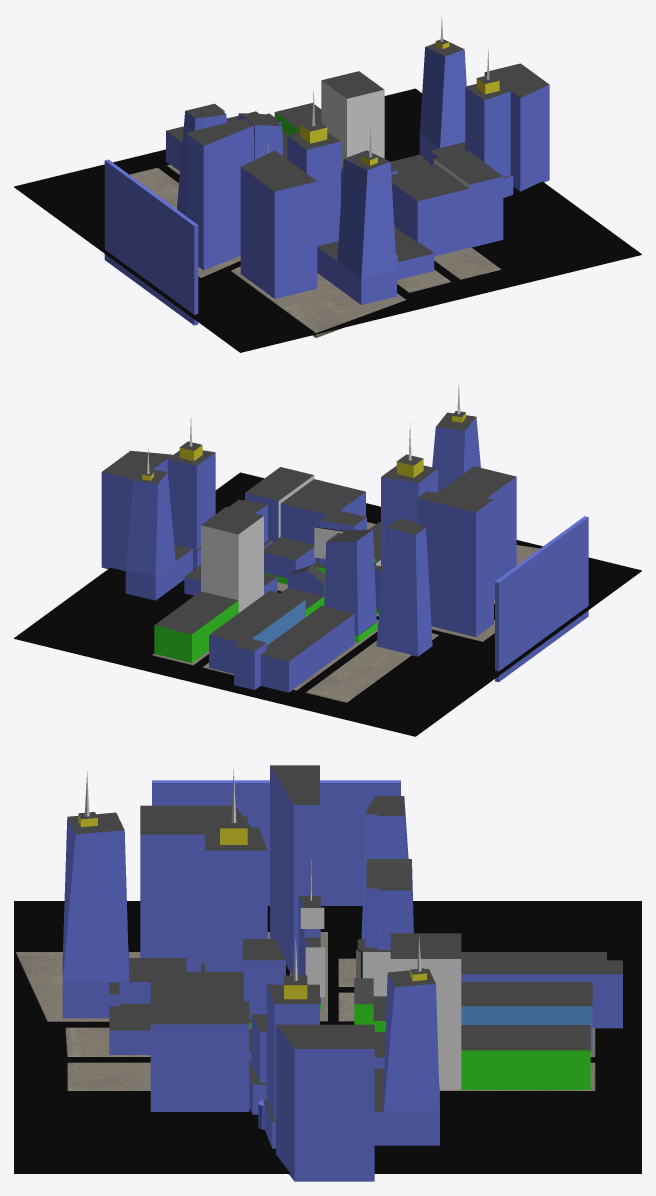
Rendered from city-map-rc4.glb.
The picture shows the model from 3 angles, top to bottom: view 1: azimuth 30°, elevation 25°; view 2: azimuth 150°, elevation 25°; view 3: azimuth 270°, elevation 25°; orthographic projection. The views are drawn at different scales.
Parts seen in each view (by area): view 1: Cube, b-1-left, b-0-middle, b-4-left, b-2-left-2, b-1-middle, b-4-right, b-7-middle, b-6-right, b-6-left, b-2-left-1, Plane.004 (+8 smaller); view 2: Cube, b-0-middle, b-4-right, b-1-middle, b-4-left, b-1-right, b-6-right, b-3-right, b-2-right-1, b-2-right-2, b-6-left, b-7-middle (+7 smaller); view 3: Cube, b-7-middle, b-4-right, b-2-left-2, b-4-left, b-1-left, b-0-middle, b-6-right, b-2-left-1, b-1-middle, b-3-right, b-2-right-2 (+10 smaller).
Part boxes in pixels (x1=…): Cube: x1=14, y1=88, x2=641, y2=352; b-1-left: x1=240, y1=150, x2=317, y2=298; b-0-middle: x1=104, y1=159, x2=198, y2=325; b-4-left: x1=391, y1=150, x2=503, y2=256; b-2-left-2: x1=317, y1=128, x2=396, y2=304; b-1-middle: x1=185, y1=118, x2=253, y2=270; b-4-right: x1=274, y1=71, x2=397, y2=174; b-7-middle: x1=484, y1=63, x2=549, y2=191; b-6-right: x1=419, y1=15, x2=466, y2=161; b-6-left: x1=465, y1=49, x2=513, y2=197; b-2-left-1: x1=287, y1=90, x2=340, y2=246; Plane.004: x1=231, y1=266, x2=405, y2=337; Cube: x1=14, y1=472, x2=641, y2=736; b-0-middle: x1=495, y1=516, x2=588, y2=682; b-4-right: x1=154, y1=506, x2=277, y2=662; b-1-middle: x1=417, y1=491, x2=493, y2=636; b-4-left: x1=245, y1=467, x2=365, y2=584; b-1-right: x1=376, y1=518, x2=432, y2=656; b-6-right: x1=125, y1=449, x2=192, y2=600; b-3-right: x1=209, y1=565, x2=324, y2=673; b-2-right-1: x1=260, y1=605, x2=354, y2=692; b-2-right-2: x1=324, y1=529, x2=378, y2=642; b-6-left: x1=167, y1=417, x2=215, y2=569; b-7-middle: x1=101, y1=450, x2=172, y2=571; Cube: x1=14, y1=901, x2=641, y2=1173; b-7-middle: x1=276, y1=1024, x2=374, y2=1181; b-4-right: x1=374, y1=933, x2=590, y2=1089; b-2-left-2: x1=62, y1=771, x2=186, y2=1018; b-4-left: x1=150, y1=971, x2=251, y2=1111; b-1-left: x1=140, y1=805, x2=251, y2=971; b-0-middle: x1=152, y1=780, x2=400, y2=905; b-6-right: x1=374, y1=935, x2=439, y2=1145; b-2-left-1: x1=201, y1=769, x2=267, y2=971; b-1-middle: x1=270, y1=765, x2=319, y2=975; b-3-right: x1=354, y1=978, x2=592, y2=1052; b-2-right-2: x1=356, y1=859, x2=413, y2=996.
Bounding box in the file's own units: 206 × 96.03 × 197.
Materials: 12 (1 with a texture image).
